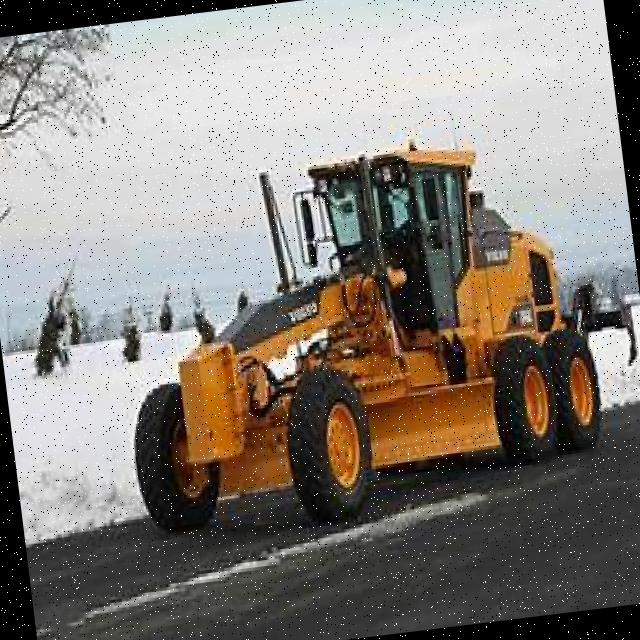Grader: (85, 103, 640, 543)
